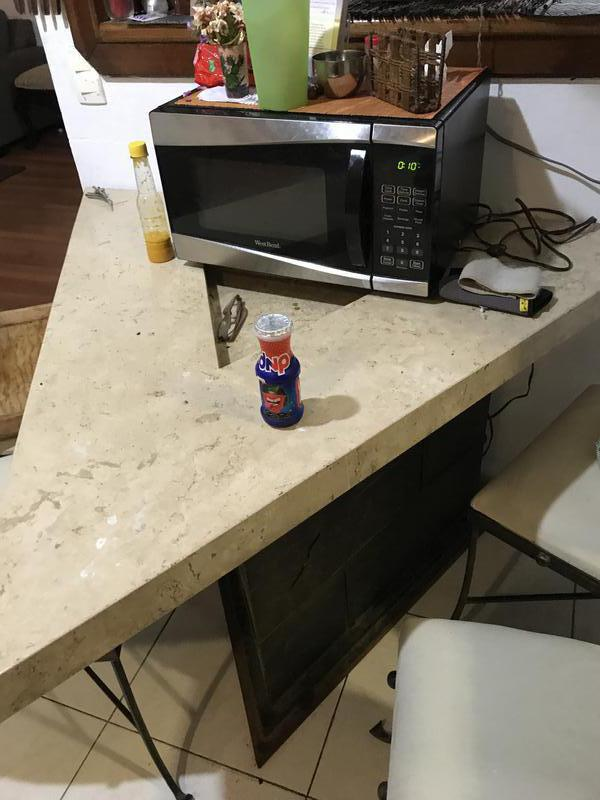danup: (251, 315, 309, 433)
